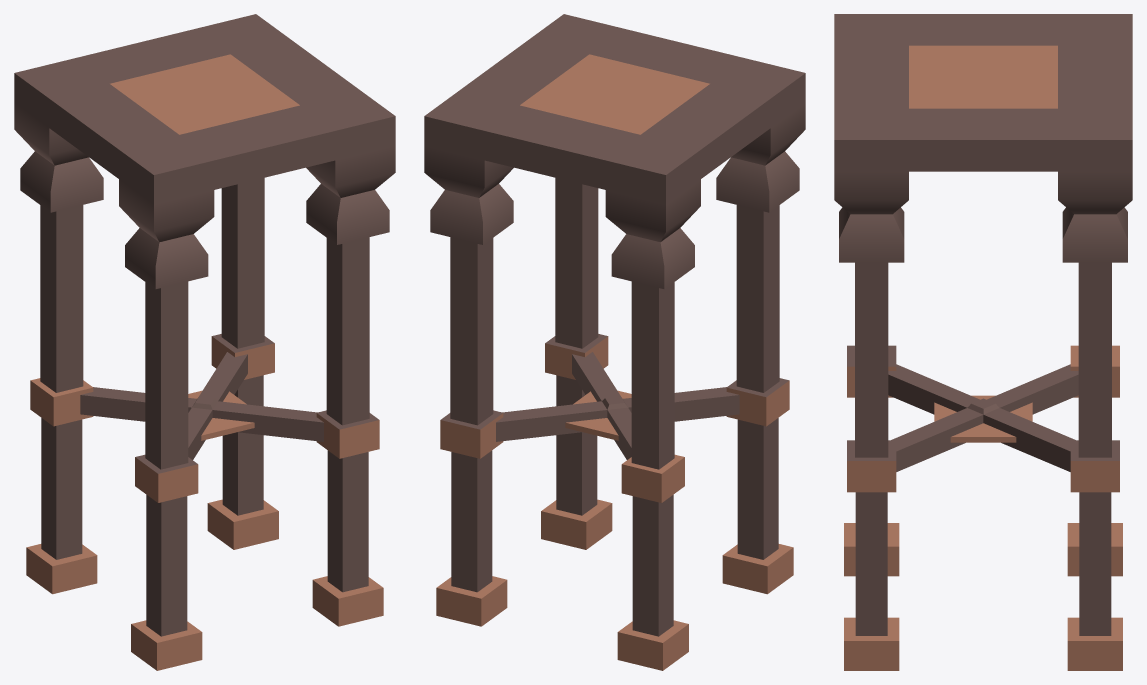
File: end table.fbx
3 renders of one model, left to right at view 1: azimuth 30°, elevation 25°; view 2: azimuth 150°, elevation 25°; view 3: azimuth 270°, elevation 25°, orthographic. The views are drawn at different scales.
Parts seen in each view (by area): view 1: pCube6, pCube5, pCube7; view 2: pCube6, pCube5, pCube7; view 3: pCube6, pCube5, pCube7.
Part boxes in pixels (x1,y1,x2,y2): pCube6: [14, 14, 395, 670]; pCube5: [80, 352, 323, 459]; pCube7: [188, 390, 254, 440]; pCube6: [424, 14, 805, 670]; pCube5: [496, 352, 739, 459]; pCube7: [565, 390, 631, 440]; pCube6: [834, 14, 1132, 670]; pCube5: [888, 364, 1078, 471]; pCube7: [934, 395, 1032, 442].
Bounding box in the file's own units: 5.73 × 11.34 × 5.73.
